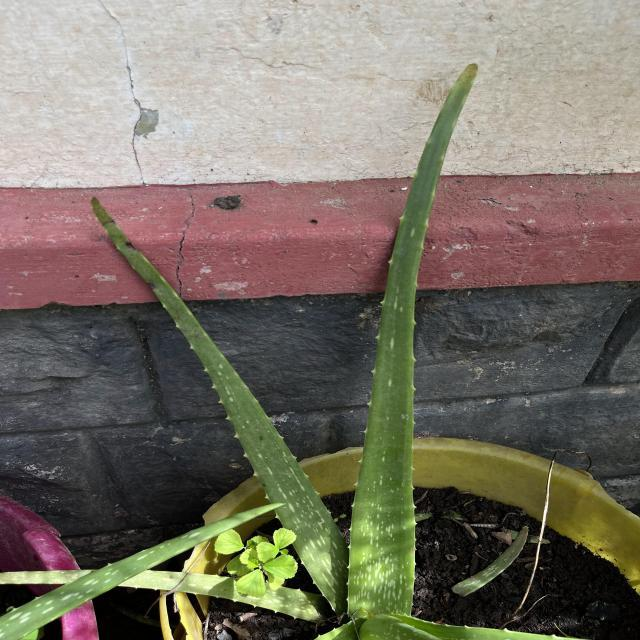Aloe vera: (341, 62, 487, 623)
